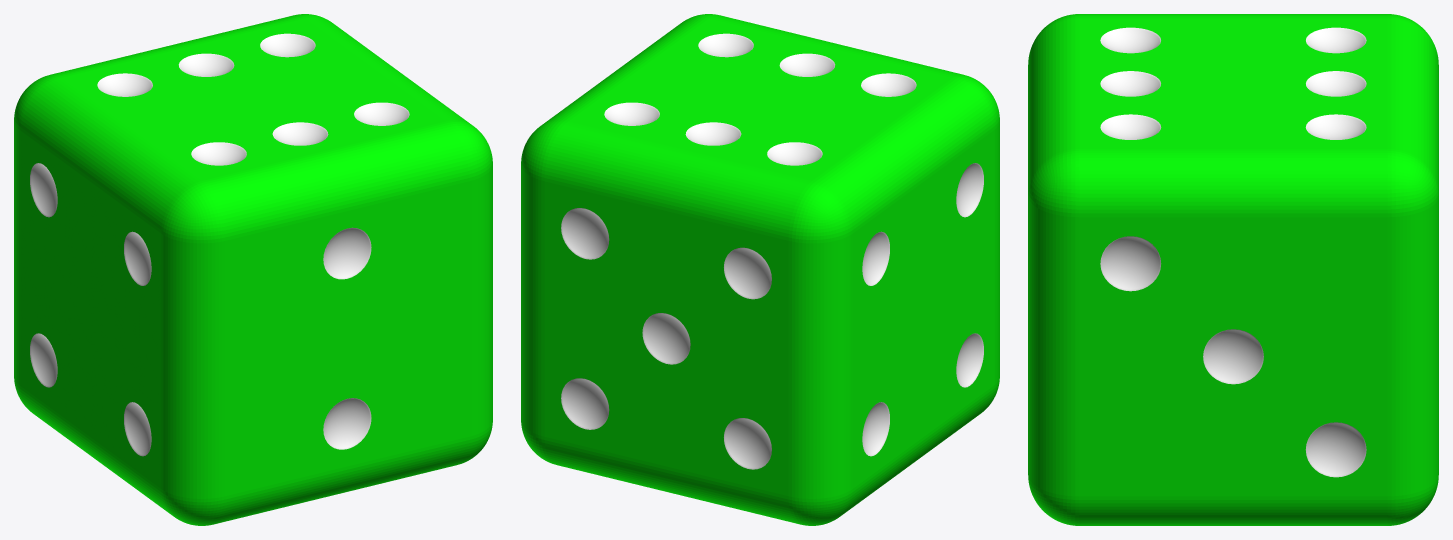
Rendered from dice_green.fbx.
The picture shows the model from 3 angles, left to right: view 1: azimuth 30°, elevation 25°; view 2: azimuth 150°, elevation 25°; view 3: azimuth 270°, elevation 25°; orthographic projection. The views are drawn at different scales.
Visible parts, largest first — view 1: Cube; view 2: Cube; view 3: Cube.
Part boxes in pixels (x1,y1,x2,y2): Cube: (14,14,492,525); Cube: (521,14,999,525); Cube: (1028,14,1438,525).
Bounding box in the file's own units: 200 × 200 × 200.
